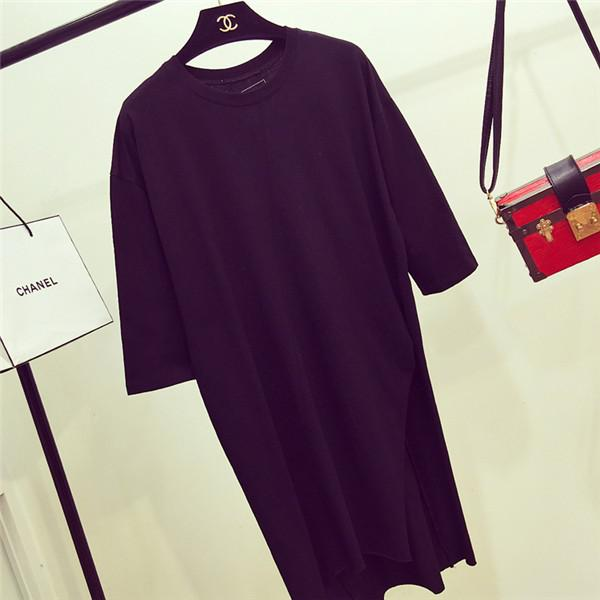Tops: (114, 26, 481, 600)
